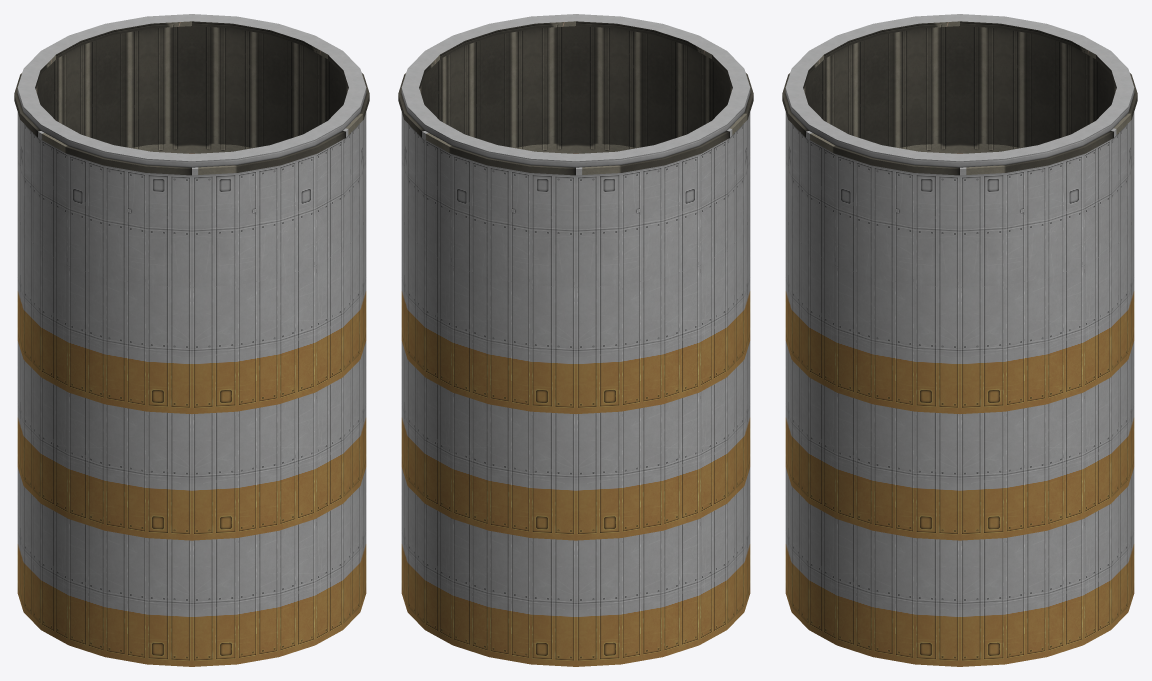
The model's file is upper stage.obj.
3 views of the same model, side by side, from view 1: azimuth 30°, elevation 25°; view 2: azimuth 150°, elevation 25°; view 3: azimuth 270°, elevation 25° (orthographic).
Visible parts, largest first — view 1: interstage; view 2: interstage; view 3: interstage.
Part boxes in pixels (<box>): interstage: <box>14,14,369,666</box>; interstage: <box>398,14,753,666</box>; interstage: <box>782,14,1137,666</box>.
Size of the model in its own units: 2.55 by 4 by 2.55.
1 material, 1 textured.
